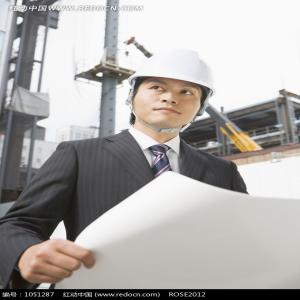white: (129, 49, 216, 138)
